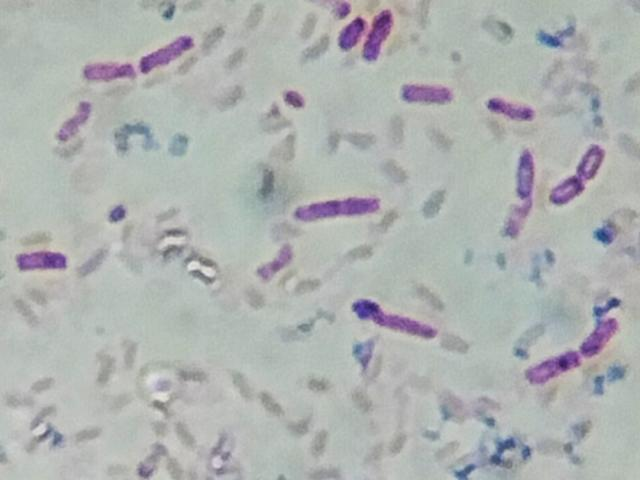E. coli: (359, 296, 449, 346), (499, 147, 544, 240), (291, 187, 390, 225), (141, 30, 199, 81), (76, 53, 142, 93), (51, 95, 106, 142), (528, 347, 589, 383), (394, 78, 456, 109), (11, 247, 72, 278), (483, 93, 544, 119), (583, 313, 620, 354), (365, 7, 392, 62), (331, 9, 362, 54), (575, 145, 607, 181), (548, 175, 582, 206)
